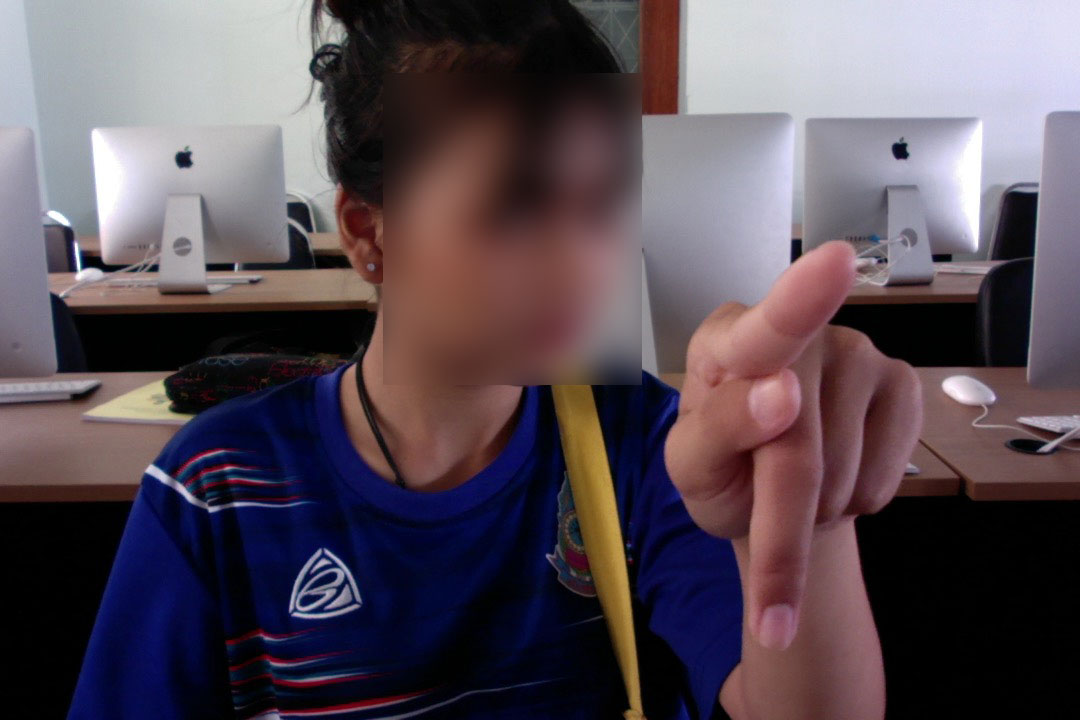por: (663, 240, 934, 654)
